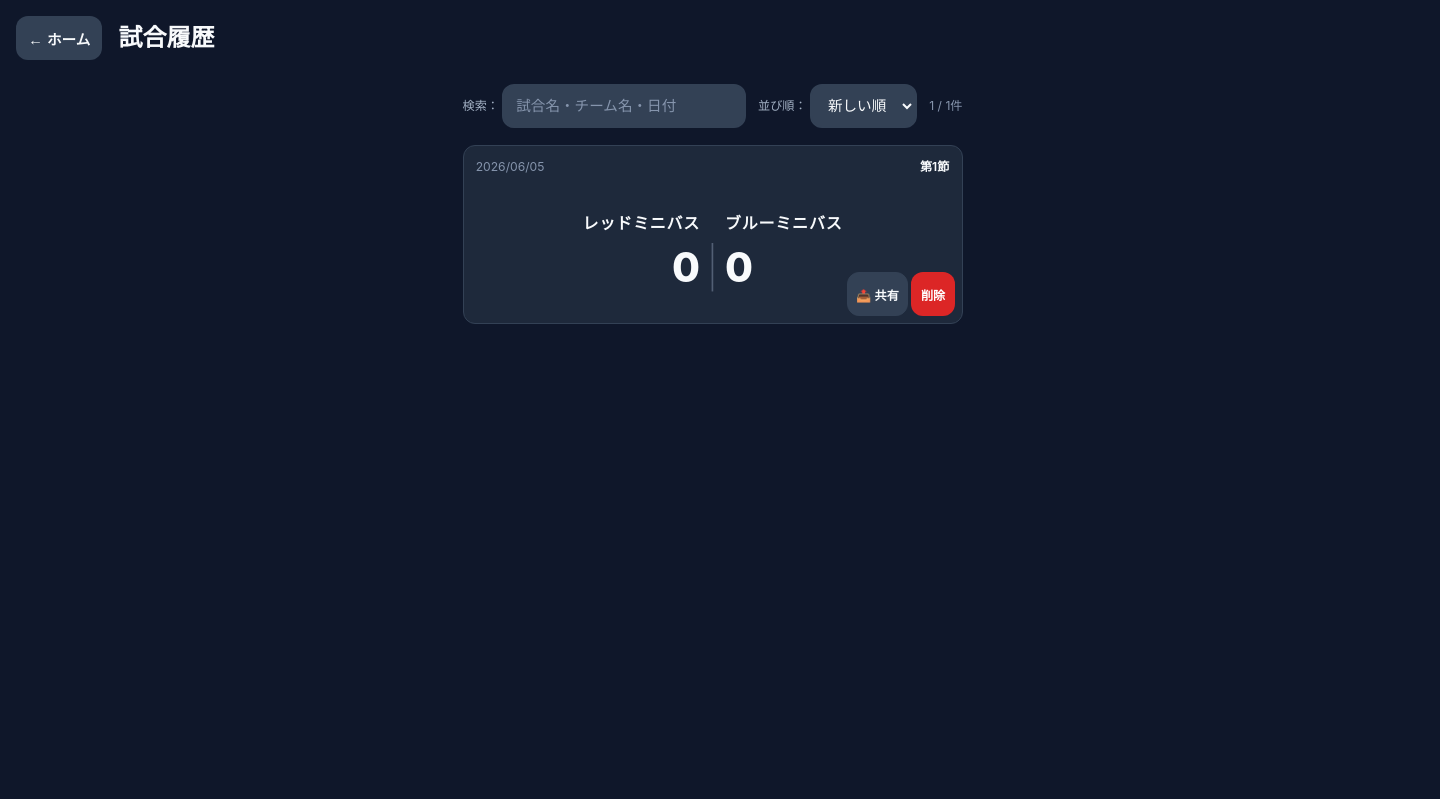
Test case: 選手のstatsが欠けた試合レコード › スタッツ表を開いても落ちない
Click the button "2026/06/05 第1節 レッドミニバス 0 | ブルーミニバス 0" at (510, 166), box [476,158,949,311]
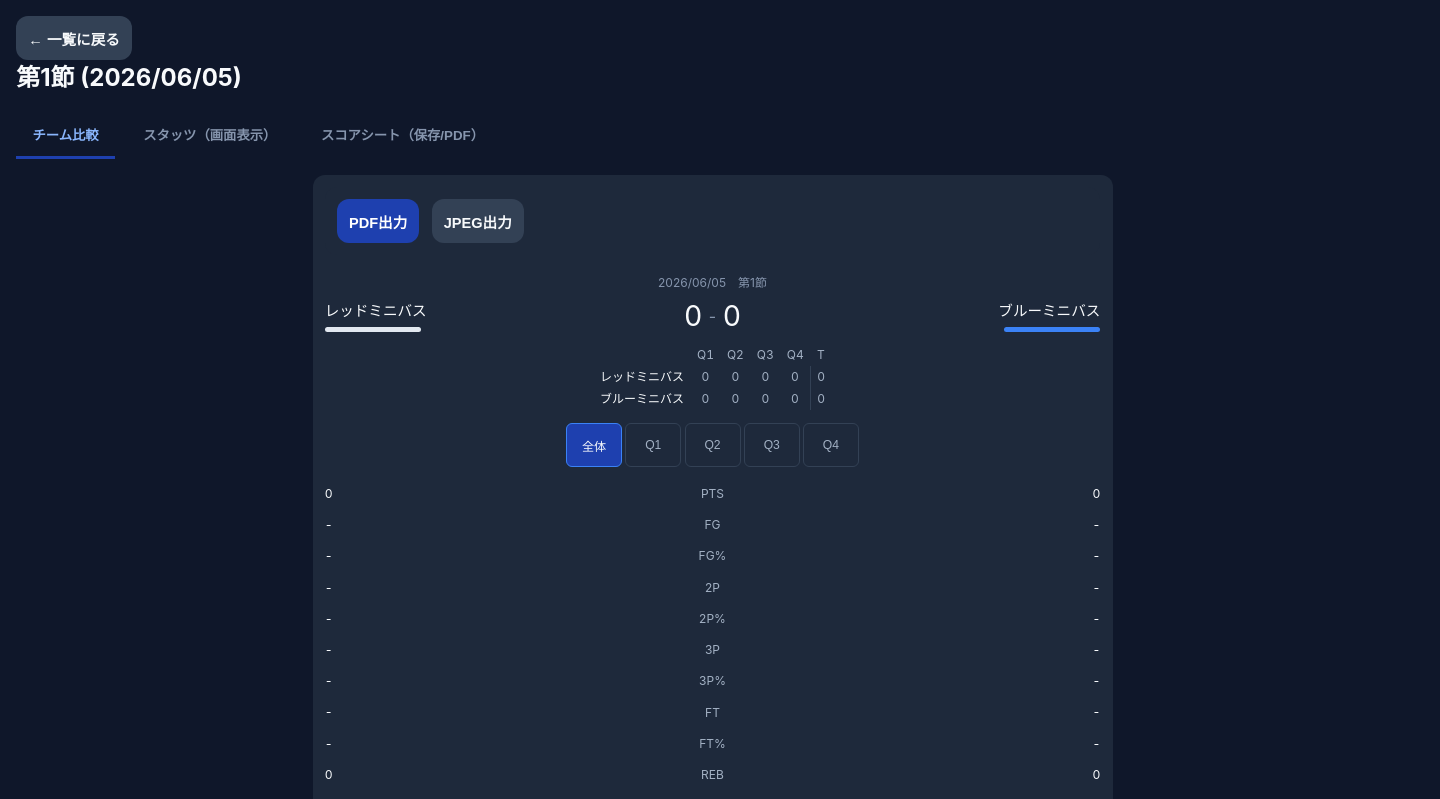
Click the button "スタッツ（画面表示）" at (210, 136), box [127,112,293,159]
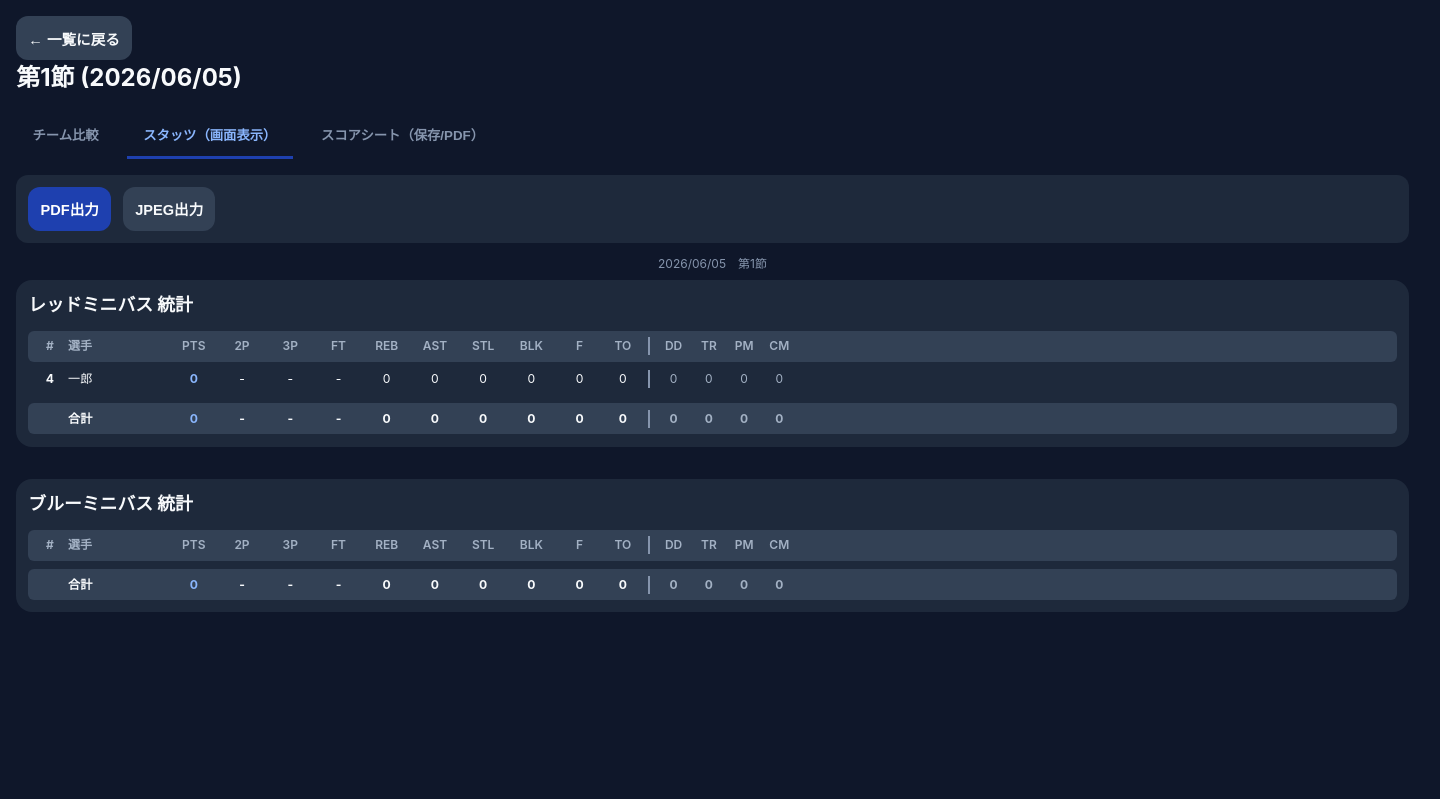
Expected: the number of elements with class "stats-panel" is 2, [16,280,1409,447]; [16,479,1409,612]
